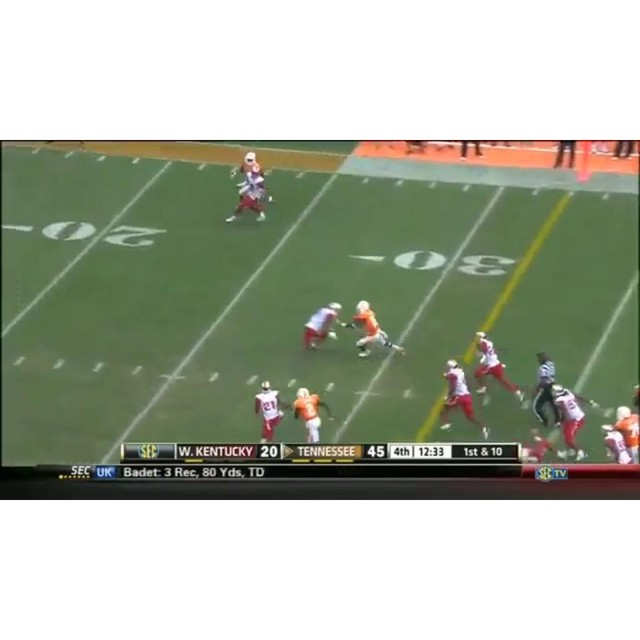american-football-player: (439, 359, 488, 438), (475, 332, 522, 403), (552, 385, 590, 461), (356, 301, 404, 357), (224, 174, 267, 225), (302, 301, 343, 352), (293, 388, 329, 444), (254, 380, 285, 442)
referee: (530, 350, 559, 427)
